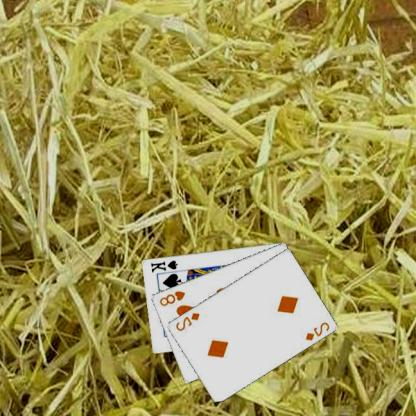2D: (304, 319, 332, 342), (174, 310, 202, 332)
8H: (159, 288, 188, 308)
KS: (150, 258, 181, 274)
